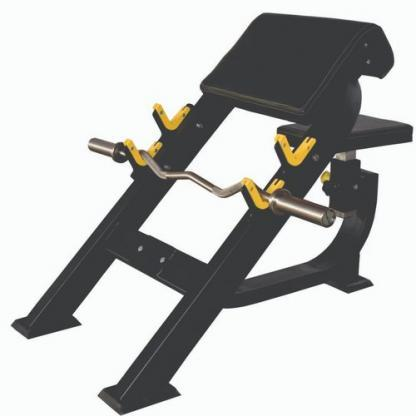arm curl machine: (12, 11, 411, 413)
